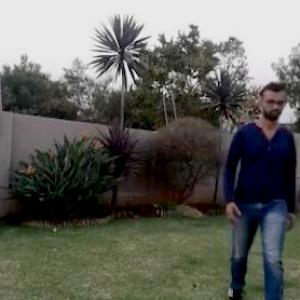follow: (237, 86, 297, 292)
